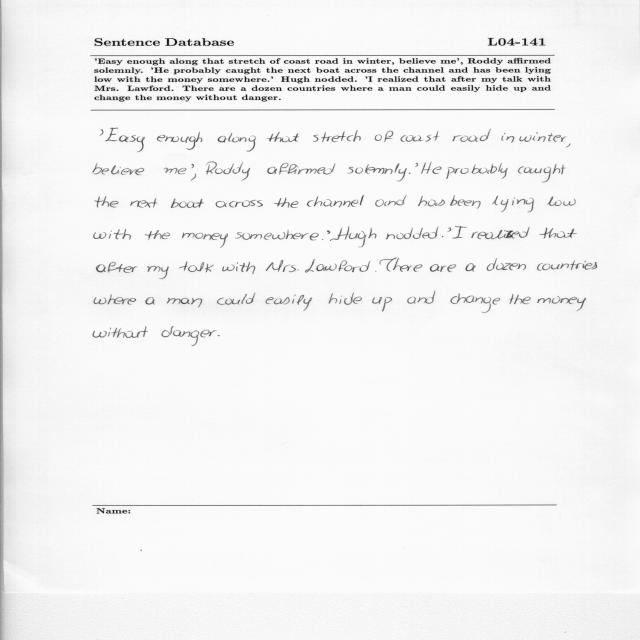word: (347, 164, 407, 182), (162, 327, 217, 346), (446, 163, 508, 179), (330, 227, 377, 248), (105, 128, 145, 152), (451, 294, 501, 313), (235, 230, 319, 241), (305, 259, 370, 273), (518, 164, 566, 182), (268, 163, 336, 175), (157, 132, 202, 150), (206, 162, 250, 180), (266, 295, 312, 311), (537, 296, 586, 311), (218, 133, 256, 152), (471, 227, 530, 239), (182, 233, 228, 248), (386, 227, 439, 240), (307, 196, 364, 208), (492, 196, 534, 212), (537, 260, 597, 271), (93, 163, 144, 175), (93, 327, 148, 338), (380, 258, 423, 272), (313, 130, 361, 142), (452, 129, 491, 142), (487, 258, 526, 271), (217, 292, 255, 305), (519, 132, 567, 142), (96, 262, 138, 273), (94, 294, 136, 305), (450, 195, 481, 209), (401, 131, 440, 142), (329, 292, 362, 305), (539, 228, 577, 239), (94, 229, 131, 240), (222, 262, 255, 274), (266, 260, 299, 272), (216, 200, 263, 208), (179, 262, 213, 273), (375, 195, 406, 207), (407, 291, 435, 304), (167, 298, 202, 308), (267, 132, 300, 142), (171, 199, 204, 208), (147, 266, 169, 279), (130, 198, 158, 208), (372, 297, 392, 311), (274, 197, 299, 208), (418, 196, 445, 206), (95, 196, 119, 207), (547, 197, 576, 206), (421, 162, 442, 174), (145, 230, 170, 240), (509, 294, 531, 304), (430, 264, 456, 272), (375, 131, 393, 142), (453, 226, 468, 239), (164, 168, 187, 174), (501, 133, 514, 143), (466, 263, 476, 272), (145, 297, 155, 305), (190, 174, 196, 181), (448, 227, 452, 232), (566, 144, 570, 148), (327, 231, 331, 235), (191, 164, 194, 168), (415, 163, 418, 167), (442, 236, 444, 237), (375, 271, 377, 272), (218, 335, 220, 336), (409, 173, 410, 174), (322, 239, 323, 240)
